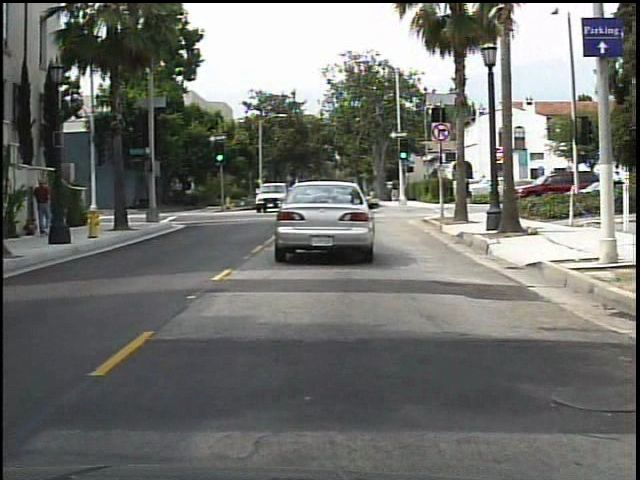person: (29, 176, 58, 243)
